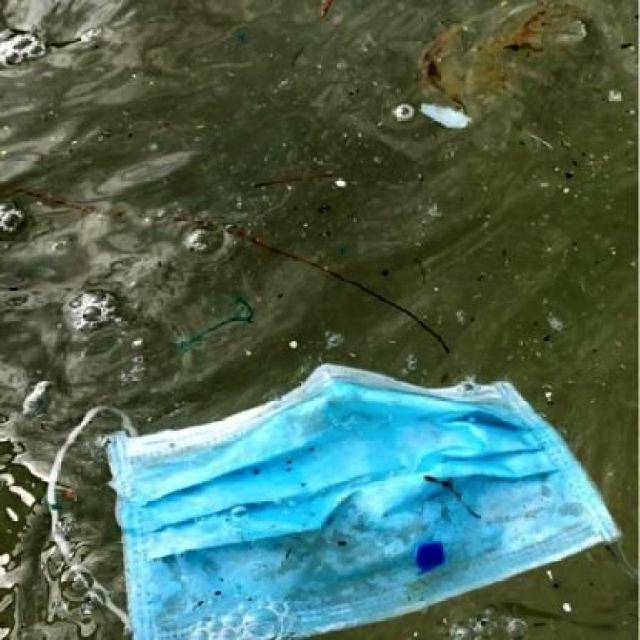Mask: (26, 367, 628, 639)
